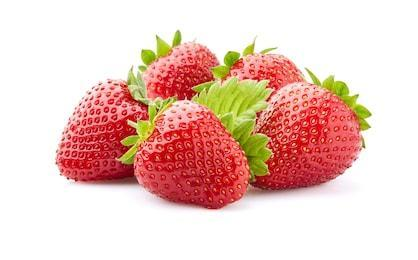Fresa: (45, 74, 175, 187), (242, 78, 368, 194), (131, 96, 254, 211)
